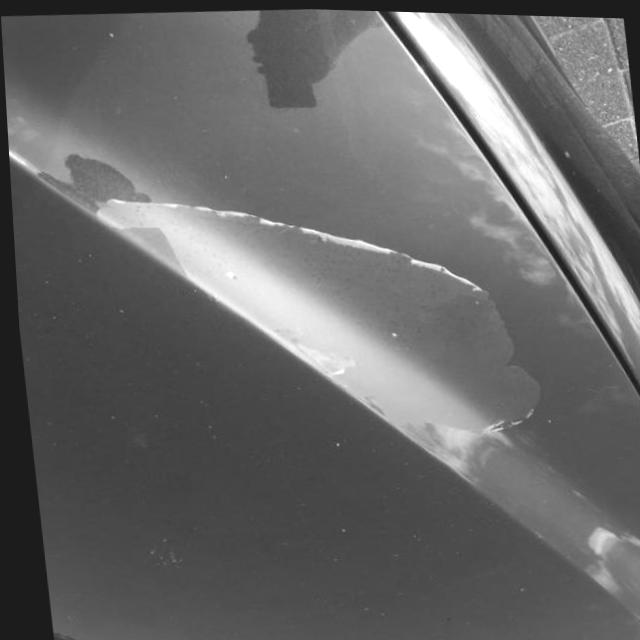Paint-fading: (86, 183, 552, 441)
